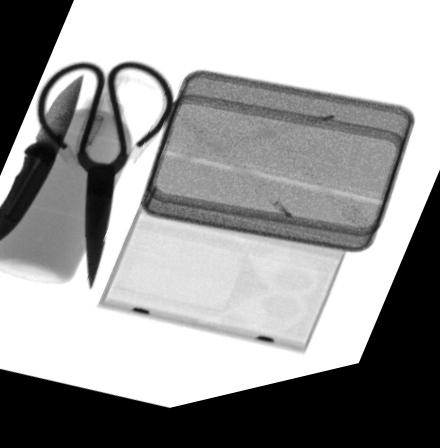Knife: (0, 79, 84, 242)
Scissors: (36, 65, 173, 295)
